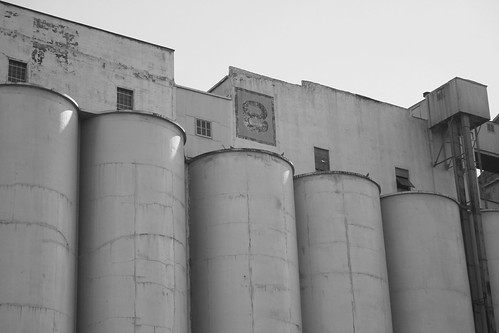building: (2, 4, 499, 333)
sky: (127, 1, 499, 83)
